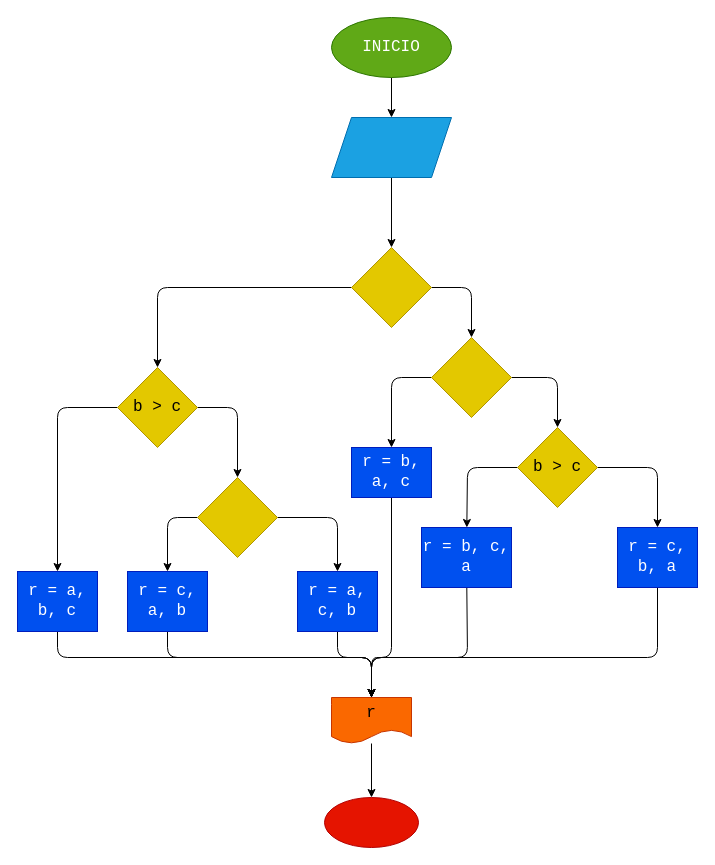
Image size: 715x865. Some labels were removed from this diagram. Each missing label, with the centre of its shape:
a > c: the point at 471,377
a,b,c: the point at 391,147
a>b: the point at 391,287
c > a: the point at 237,517
FIN: the point at 371,822
